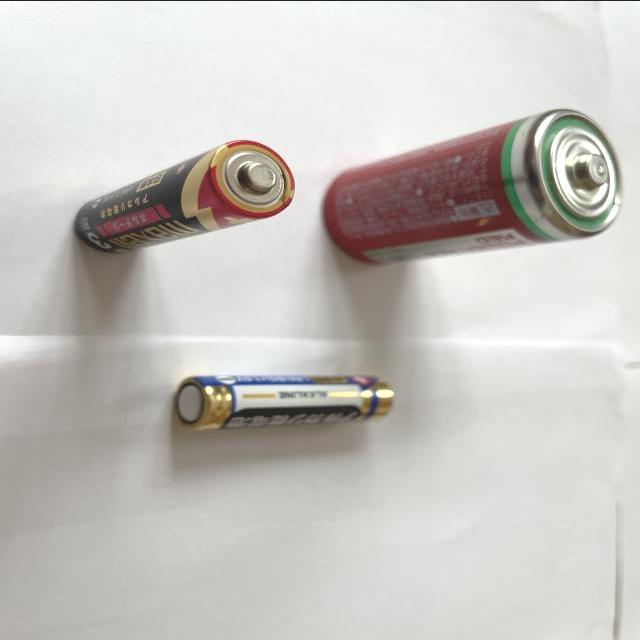AA: (74, 138, 297, 255)
AAA: (172, 366, 396, 429)
